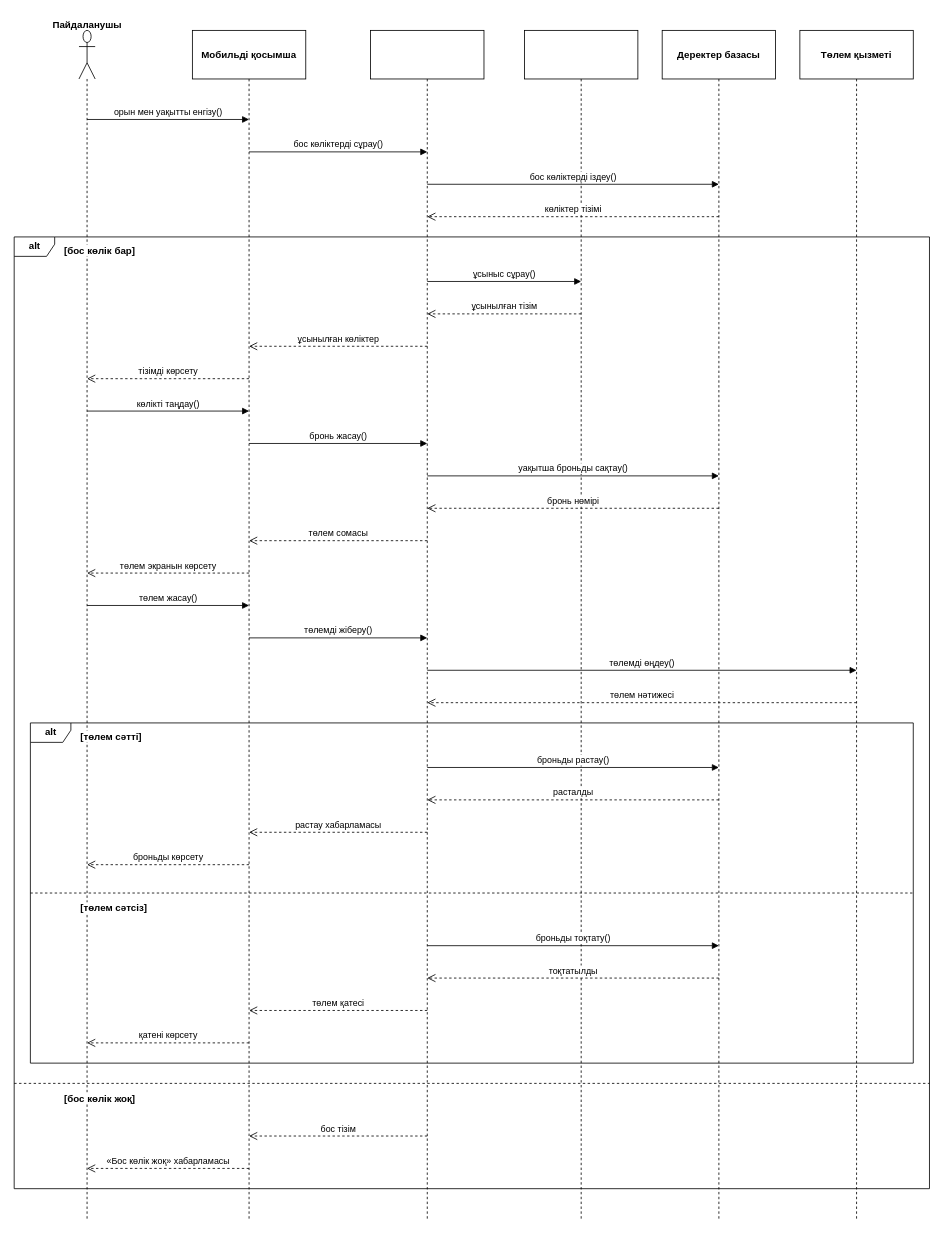
Image size: 944x1235. Some labels were removed from this diagram. The shapes that lost their labels are listed below. From the top down, each one's box as (x1, y1, x2, y2) in pixels, then its label:
(370, 30, 484, 1221): Броньдау қызметі
(524, 30, 638, 1221): ЖИ қызметі
